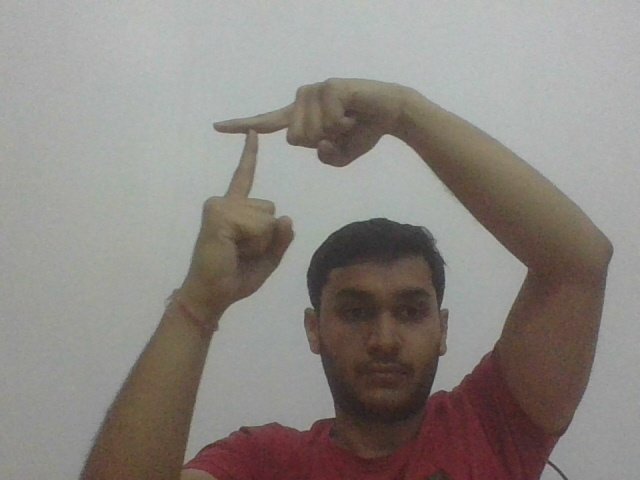T: (205, 106, 283, 197)
